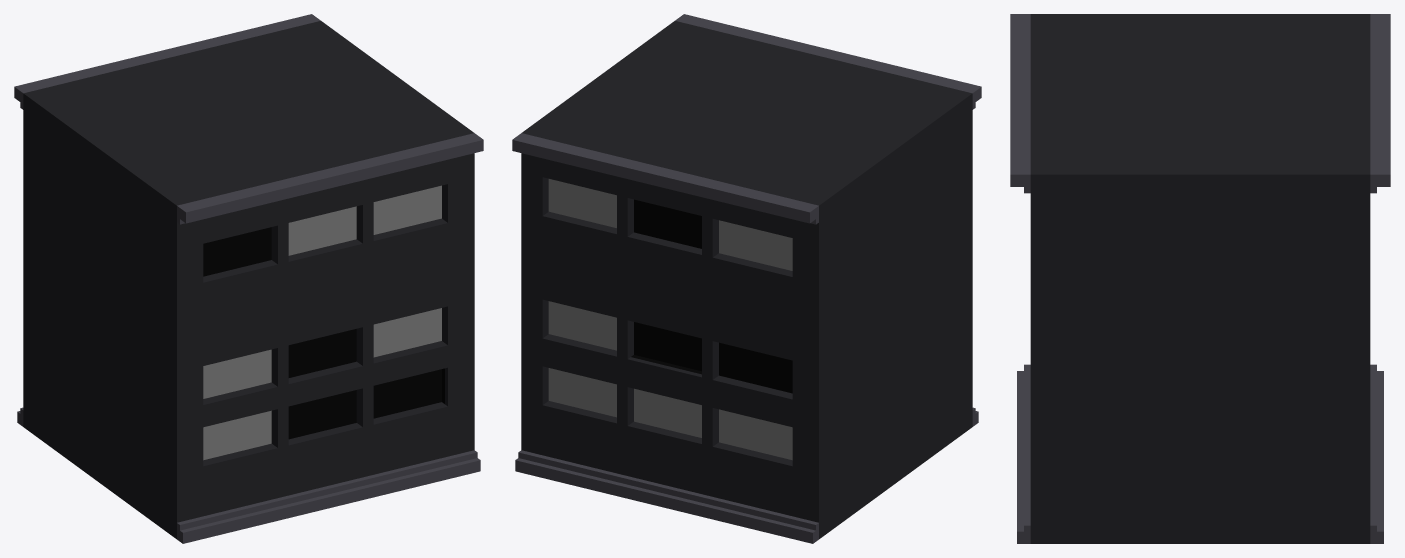
Rendered from Building008(2).obj.
The picture shows the model from 3 angles, left to right: view 1: azimuth 30°, elevation 25°; view 2: azimuth 150°, elevation 25°; view 3: azimuth 270°, elevation 25°; orthographic projection. The views are drawn at different scales.
Bounding box in the file's own units: 5.6 × 6 × 5.6.
Materials: 1 (1 with a texture image).
